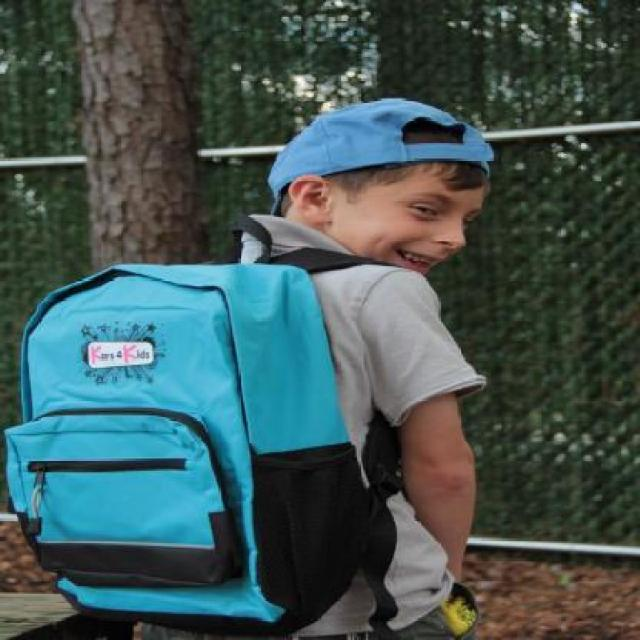backpack: (5, 252, 377, 640)
